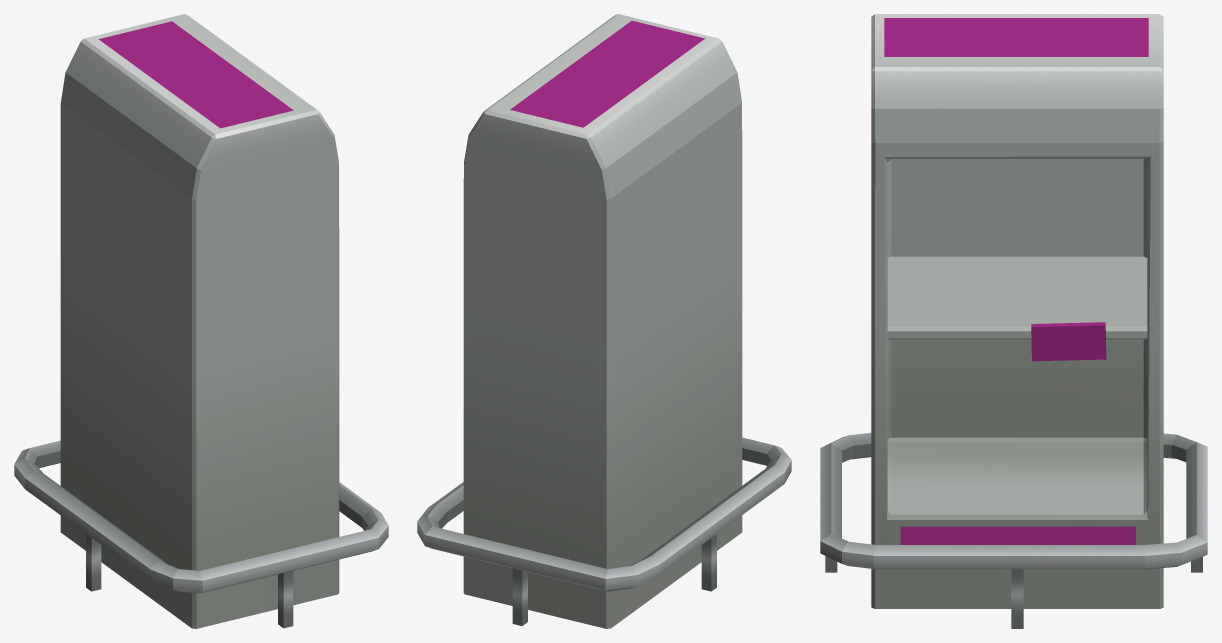
File: IceBox_01.fbx
The picture shows the model from 3 angles, left to right: view 1: azimuth 30°, elevation 25°; view 2: azimuth 150°, elevation 25°; view 3: azimuth 270°, elevation 25°; orthographic projection. The views are drawn at different scales.
Parts seen in each view (by area): view 1: Icebox_1, marks_icebox_1; view 2: Icebox_1, marks_icebox_1; view 3: Icebox_1, marks_icebox_1.
Boxes of the visible parts, x1=… form: Icebox_1: x1=14, y1=14, x2=388, y2=628; marks_icebox_1: x1=99, y1=21, x2=293, y2=128; Icebox_1: x1=417, y1=14, x2=791, y2=628; marks_icebox_1: x1=510, y1=20, x2=704, y2=127; Icebox_1: x1=820, y1=14, x2=1207, y2=628; marks_icebox_1: x1=884, y1=18, x2=1148, y2=544.
Size of the model in its own units: 99.53 by 132 by 200.
